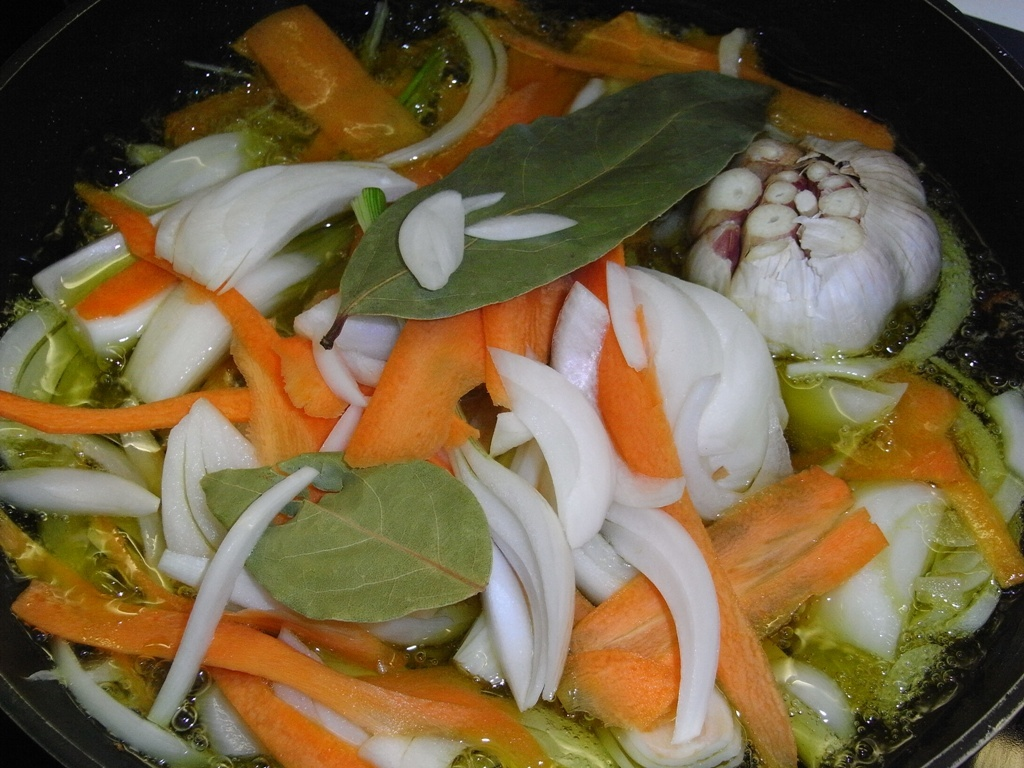salad: (0, 1, 1024, 768)
